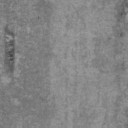oxide scale of plate system: (2, 23, 16, 74), (112, 0, 128, 39)
